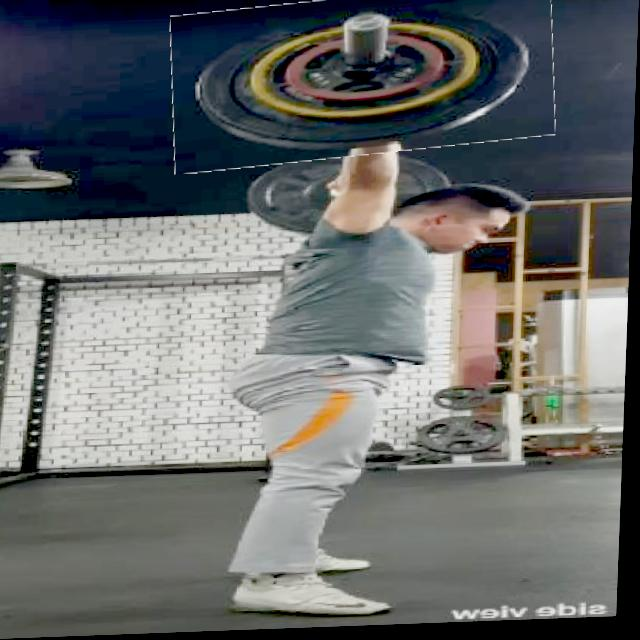barbell: (169, 1, 559, 170)
